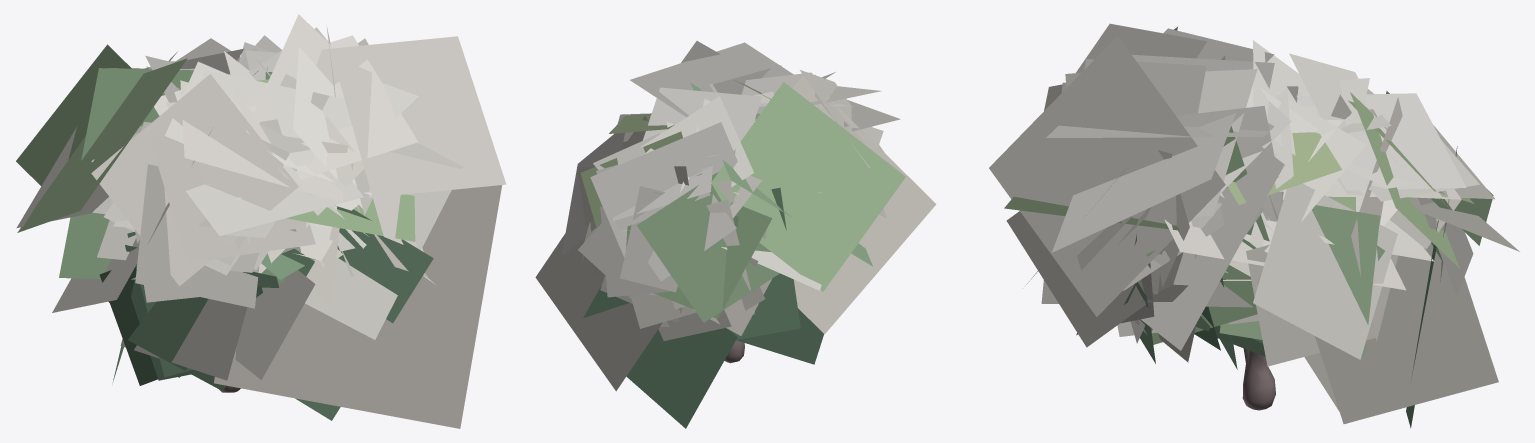
Rendered from hawthorn_v3.glb.
3 views of the same model, side by side, from view 1: azimuth 30°, elevation 25°; view 2: azimuth 150°, elevation 25°; view 3: azimuth 270°, elevation 25° (orthographic). The views are drawn at different scales.
Visible parts, largest first — view 1: far, near; view 2: far, near; view 3: far, near.
Part boxes in pixels (left/top/right/bottom): far: left=16, top=26, right=506, bottom=428; near: left=16, top=14, right=427, bottom=392; far: left=535, top=42, right=936, bottom=428; near: left=561, top=41, right=900, bottom=363; far: left=989, top=36, right=1498, bottom=428; near: left=1006, top=23, right=1519, bottom=410.
Size of the model in its own units: 7.46 by 7.38 by 8.87.
